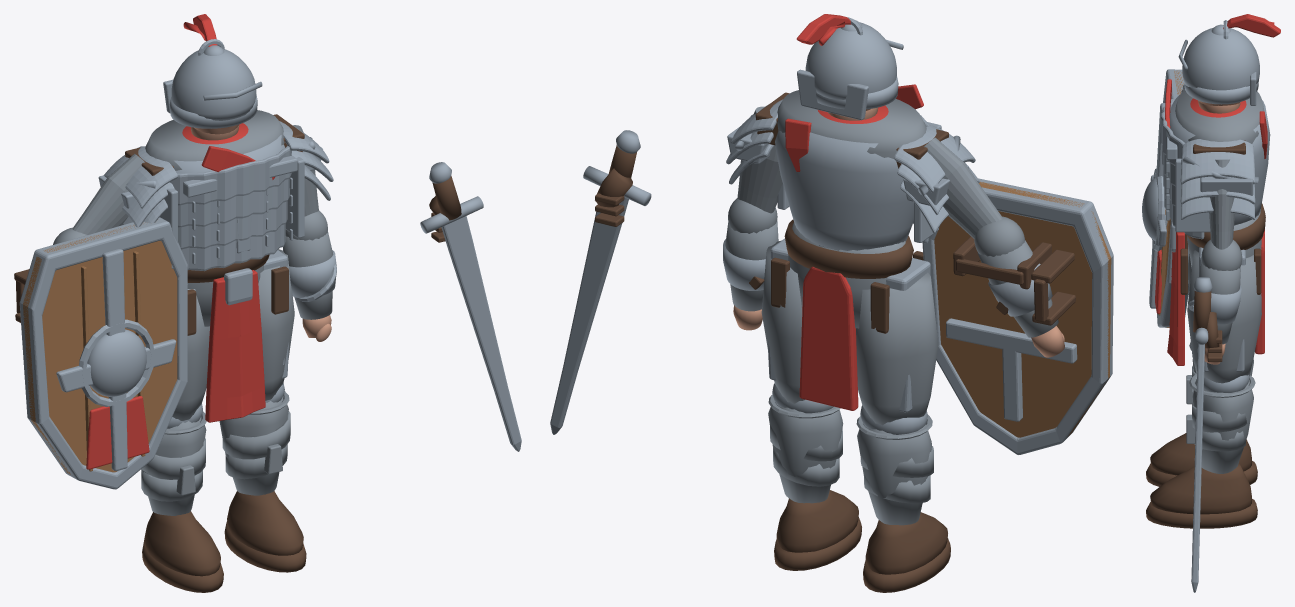
File: SK_Infantry_A_v004_P035R2_L1Pose_Review.fbx
3 renders of one model, left to right at view 1: azimuth 30°, elevation 25°; view 2: azimuth 150°, elevation 25°; view 3: azimuth 270°, elevation 25°, orthographic. The views are drawn at different scales.
Visible parts, largest first — view 1: Shield, Shield_Rim, GEO_Infantry_WaistCloth_Front_P03R1, Sword, Helmet, Boot_R, Boot_L, Body_Base, Shield_Boss, ChestArmor_Lamellar_4, Thigh_R, Shield_Reinforcement_V (+35 smaller); view 2: Shield, ChestArmor, Shield_Rim, Thigh_L, WaistCloth_Rear_P02R1, Helmet, Sword, Calf_L, Body_Base, Calf_R, Thigh_R, Boot_R (+31 smaller); view 3: Helmet, Thigh_R, Boot_R, Body_Base, ShoulderArmor_R_1, Calf_R, Sword, GEO_Infantry_WaistCloth_Front_P03R1, BootSole_R, Boot_L, ChestArmor, UpperArm_R (+45 smaller).
Boxes of the visible parts, x1,y1,x2,y2 form: Shield: (23,222,177,474); Shield_Rim: (19,217,187,489); GEO_Infantry_WaistCloth_Front_P03R1: (205,270,265,422); Sword: (441,216,521,451); Helmet: (171,49,256,120); Boot_R: (227,491,303,555); Boot_L: (144,511,220,576); Body_Base: (145,110,284,170); Shield_Boss: (87,329,146,396); ChestArmor_Lamellar_4: (170,145,291,205); Thigh_R: (258,249,294,400); Shield_Reinforcement_V: (102,248,127,471); Shield: (934,181,1111,437); ChestArmor: (775,121,923,250); Shield_Rim: (922,178,1113,454); Thigh_L: (856,272,938,425); WaistCloth_Rear_P02R1: (799,266,858,410); Helmet: (805,22,896,99); Sword: (550,197,628,434); Calf_L: (857,423,931,525); Body_Base: (777,90,926,250); Calf_R: (768,402,843,503); Thigh_R: (761,240,804,403); Boot_R: (776,490,858,552); Helmet: (1182,27,1259,90); Thigh_R: (1187,250,1261,383); Boot_R: (1150,463,1251,514); Body_Base: (1175,89,1264,212); ShoulderArmor_R_1: (1180,139,1255,184); Calf_R: (1192,379,1253,473); Sword: (1191,343,1204,592); GEO_Infantry_WaistCloth_Front_P03R1: (1167,232,1184,365); BootSole_R: (1146,499,1257,528); Boot_L: (1150,433,1251,475); ChestArmor: (1169,95,1270,225); UpperArm_R: (1209,159,1234,249).
Size of the model in its own units: 1.86 by 1.82 by 0.4729.
